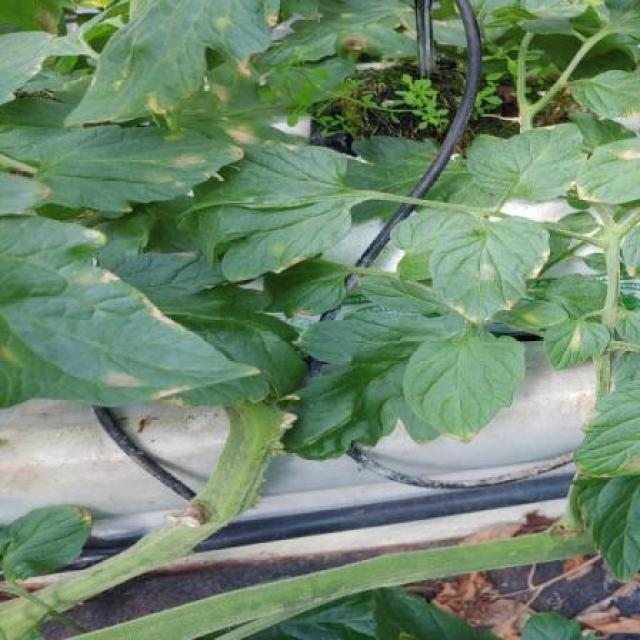Leaf Mold: (0, 213, 263, 410), (62, 0, 282, 131), (176, 140, 353, 286), (0, 125, 246, 214), (428, 215, 552, 326), (464, 122, 585, 202), (574, 131, 640, 205)
